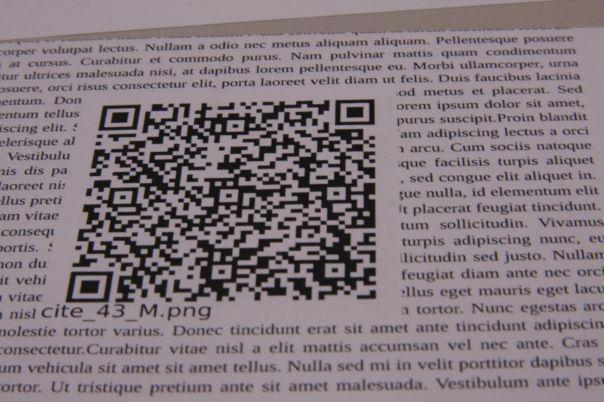qr_code: (65, 98, 377, 305)
